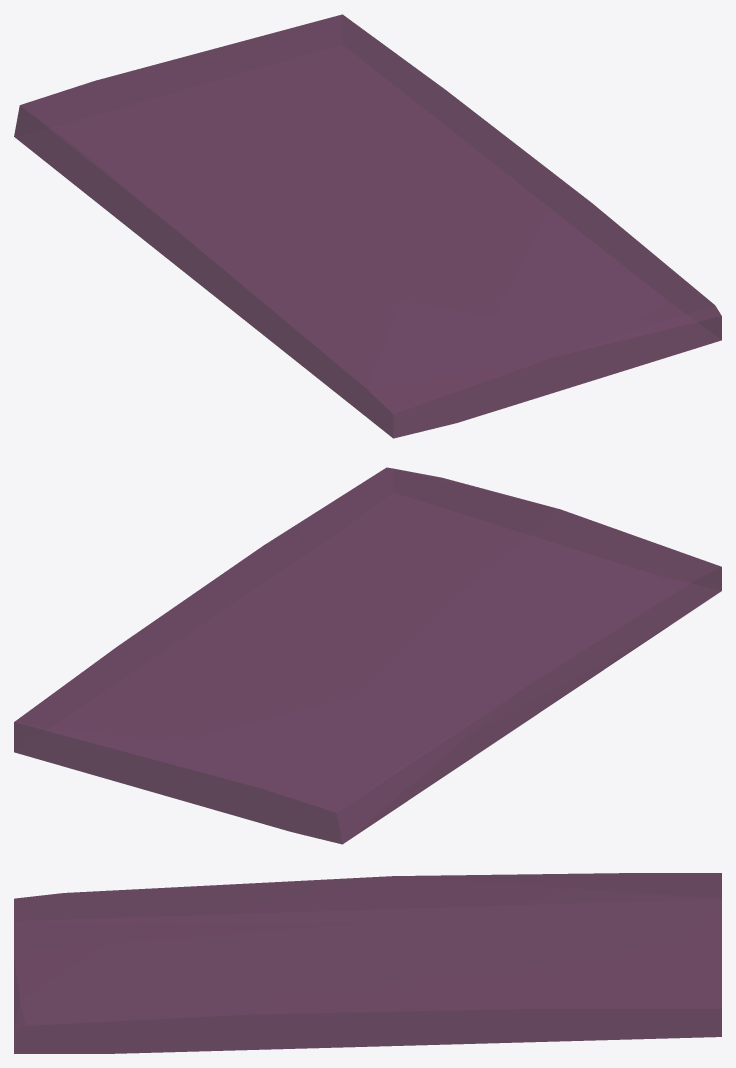
3 views of the same model, one above another, from view 1: azimuth 30°, elevation 25°; view 2: azimuth 150°, elevation 25°; view 3: azimuth 270°, elevation 25° (orthographic). The views are drawn at different scales.
Visible parts, largest first — view 1: Shape_IndexedFaceSet.009_Shape_IndexedFaceSet.11153; view 2: Shape_IndexedFaceSet.009_Shape_IndexedFaceSet.11153; view 3: Shape_IndexedFaceSet.009_Shape_IndexedFaceSet.11153.
Part boxes in pixels (box(x1,y1,x2,y2)): Shape_IndexedFaceSet.009_Shape_IndexedFaceSet.11153: box(14, 14, 721, 438); Shape_IndexedFaceSet.009_Shape_IndexedFaceSet.11153: box(14, 467, 721, 844); Shape_IndexedFaceSet.009_Shape_IndexedFaceSet.11153: box(14, 873, 721, 1053).
Size of the model in its own units: 0.1871 by 0.0361 by 0.3742.
